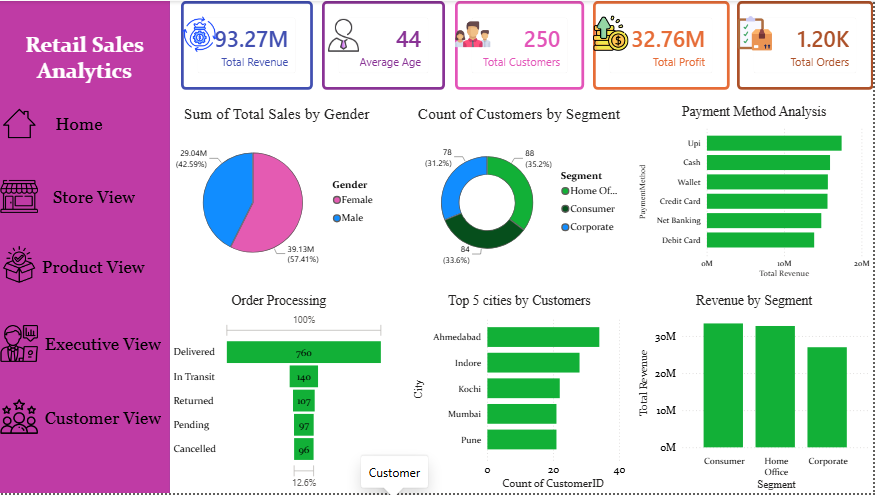

This screenshot's page, from the dashboard's own definition file:
{"tool":"powerbi","page":{"name":"Customer","canvas":[1280,720],"ordinal":3},"visuals":[{"type":"shape","box":[0,0,250,721.4],"z":0},{"type":"actionButton","box":[17.4,13.1,215.5,139.3],"z":1000},{"type":"actionButton","box":[69.7,152.4,93.6,54.4],"z":2000},{"type":"actionButton","box":[69.7,259,137.1,54.4],"z":3000},{"type":"actionButton","box":[58.8,361.4,158.9,54.4],"z":4000},{"type":"actionButton","box":[54.4,474.6,195.9,54.4],"z":5000},{"type":"actionButton","box":[54.4,583.4,195.9,52.2],"z":6000},{"type":"image","box":[6.5,152.4,47.9,54.4],"z":7000},{"type":"image","box":[0,259,58.8,54.4],"z":8000},{"type":"image","box":[0,359.2,58.8,54.4],"z":9000},{"type":"image","box":[0,474.6,58.8,54.4],"z":10000},{"type":"image","box":[0,581.2,58.8,54.4],"z":11000},{"type":"cardVisual","fields":{"Data":["SalesTable.Total Revenue"]},"box":[266.1,0,192.9,130.4],"z":12000},{"type":"cardVisual","fields":{"Data":["Avg(CustomersTable.Age)"]},"box":[473.2,0,180.4,130.4],"z":13000},{"type":"cardVisual","fields":{"Data":["Count(CustomersTable.CustomerID)"]},"box":[667.9,0,189.3,130.4],"z":14000},{"type":"cardVisual","fields":{"Data":["Sum(SalesTable.Profit)"]},"box":[869.6,0,200,130.4],"z":15000},{"type":"cardVisual","fields":{"Data":["Count(SalesTable.OrderID)"]},"box":[1080,0,200,130.4],"z":16000},{"type":"image","box":[267.9,14.3,51.8,67.9],"z":17000},{"type":"image","box":[1080.4,12.5,51.8,67.9],"z":18000},{"type":"image","box":[869.6,12.5,51.8,67.9],"z":19000},{"type":"image","box":[667.9,14.3,51.8,67.9],"z":20000},{"type":"image","box":[472.9,16.7,62.5,66.7],"z":21000},{"type":"pieChart","fields":{"Category":["CustomersTable.Gender"],"Y":["Sum(SalesTable.Total Sales)"]},"box":[250,152.1,312.5,260.4],"z":22000},{"type":"donutChart","title":"Count of Customers by Segment","fields":{"Category":["CustomersTable.Segment"],"Y":["CountNonNull(CustomersTable.CustomerID)"]},"box":[602.1,152.1,318.8,260.4],"z":23000},{"type":"funnel","title":"Order Processing","fields":{"Category":["SalesTable.OrderStatus"],"Y":["CountNonNull(SalesTable.OrderID)"]},"box":[250,427.1,318.6,292.9],"z":24000},{"type":"barChart","title":"Payment Method Analysis","fields":{"Y":["SalesTable.Total Revenue"],"Category":["SalesTable.PaymentMethod"]},"box":[931.4,151.4,348.6,260],"z":25000},{"type":"barChart","title":"Top 5 cities by Customers","fields":{"Category":["CustomersTable.City"],"Y":["CountNonNull(CustomersTable.CustomerID)"]},"box":[601.4,427.1,320,292.9],"z":26000},{"type":"columnChart","title":" Revenue by Segment","fields":{"Category":["CustomersTable.Segment"],"Y":["SalesTable.Total Revenue"]},"box":[931.4,427.1,348.6,292.9],"z":27000}]}

Visuals, with their boxes in screenshot pixels (x1, y1, x2, y2), scaled from the page's 1280x720 canvas onto the 875x495 screenshot:
shape: pyautogui.locateOnScreen(0, 0, 171, 494)
actionButton: pyautogui.locateOnScreen(12, 9, 159, 105)
actionButton: pyautogui.locateOnScreen(48, 105, 112, 142)
actionButton: pyautogui.locateOnScreen(48, 178, 141, 215)
actionButton: pyautogui.locateOnScreen(40, 248, 149, 286)
actionButton: pyautogui.locateOnScreen(37, 326, 171, 364)
actionButton: pyautogui.locateOnScreen(37, 401, 171, 437)
image: pyautogui.locateOnScreen(4, 105, 37, 142)
image: pyautogui.locateOnScreen(0, 178, 40, 215)
image: pyautogui.locateOnScreen(0, 247, 40, 284)
image: pyautogui.locateOnScreen(0, 326, 40, 364)
image: pyautogui.locateOnScreen(0, 400, 40, 437)
cardVisual - SalesTable.Total Revenue: pyautogui.locateOnScreen(182, 0, 314, 90)
cardVisual - Avg(CustomersTable.Age): pyautogui.locateOnScreen(323, 0, 447, 90)
cardVisual - Count(CustomersTable.CustomerID): pyautogui.locateOnScreen(457, 0, 586, 90)
cardVisual - Sum(SalesTable.Profit): pyautogui.locateOnScreen(594, 0, 731, 90)
cardVisual - Count(SalesTable.OrderID): pyautogui.locateOnScreen(738, 0, 874, 90)
image: pyautogui.locateOnScreen(183, 10, 219, 57)
image: pyautogui.locateOnScreen(739, 9, 774, 55)
image: pyautogui.locateOnScreen(594, 9, 630, 55)
image: pyautogui.locateOnScreen(457, 10, 492, 57)
image: pyautogui.locateOnScreen(323, 11, 366, 57)
pieChart - CustomersTable.Gender x Sum(SalesTable.Total Sales): pyautogui.locateOnScreen(171, 105, 385, 284)
"Count of Customers by Segment" donutChart: pyautogui.locateOnScreen(412, 105, 630, 284)
"Order Processing" funnel: pyautogui.locateOnScreen(171, 294, 389, 494)
"Payment Method Analysis" barChart: pyautogui.locateOnScreen(637, 104, 874, 283)
"Top 5 cities by Customers" barChart: pyautogui.locateOnScreen(411, 294, 630, 494)
" Revenue by Segment" columnChart: pyautogui.locateOnScreen(637, 294, 874, 494)
